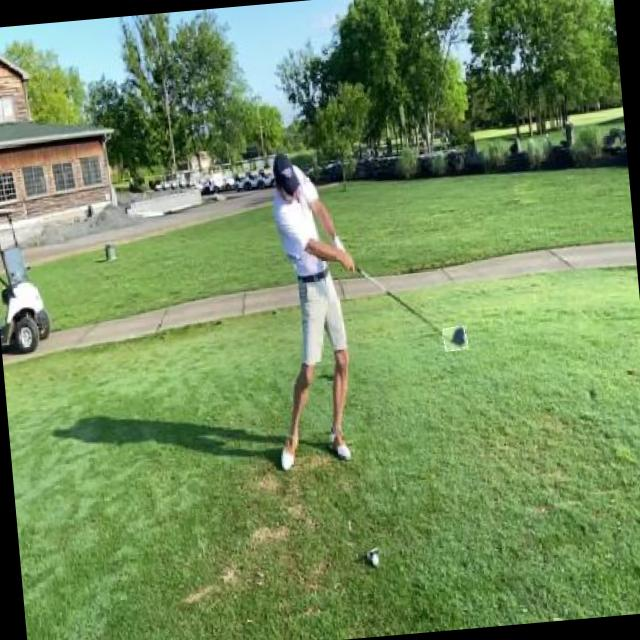club head: (442, 326, 468, 352)
